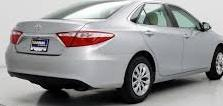Cars: (7, 3, 223, 104)
